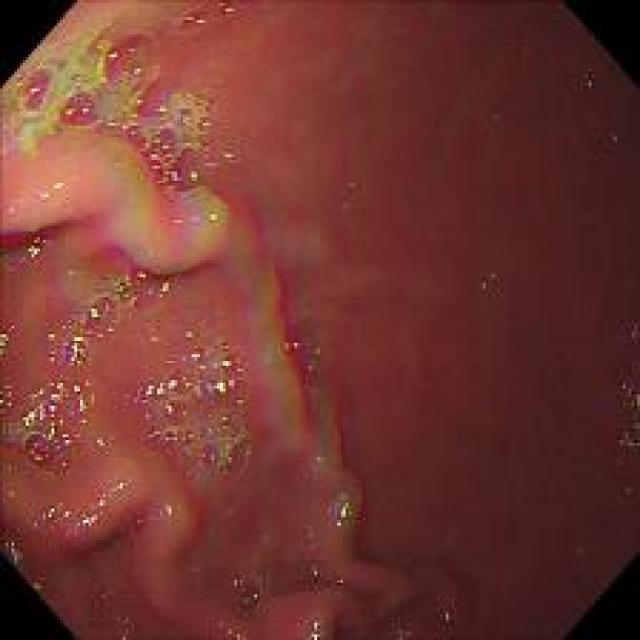bubbles: (14, 25, 199, 166), (145, 386, 252, 474), (20, 429, 61, 471)
color misalignment: (228, 194, 368, 565), (2, 272, 174, 495), (16, 32, 190, 172), (141, 328, 276, 498), (75, 192, 164, 299), (138, 186, 222, 272), (611, 316, 638, 506), (1, 218, 68, 290), (22, 504, 112, 546), (291, 562, 352, 602), (91, 579, 131, 636), (229, 570, 269, 605), (206, 611, 250, 636), (91, 476, 131, 499), (304, 610, 336, 636), (430, 601, 460, 628), (152, 501, 180, 525), (4, 535, 24, 565), (385, 622, 418, 639), (28, 572, 49, 598)
specularity: (145, 379, 178, 396), (69, 334, 82, 365), (22, 409, 38, 424), (46, 421, 56, 438), (89, 306, 100, 320), (215, 378, 226, 391), (51, 181, 62, 191), (39, 190, 51, 199), (78, 106, 91, 114), (29, 84, 40, 91), (66, 108, 74, 116)
